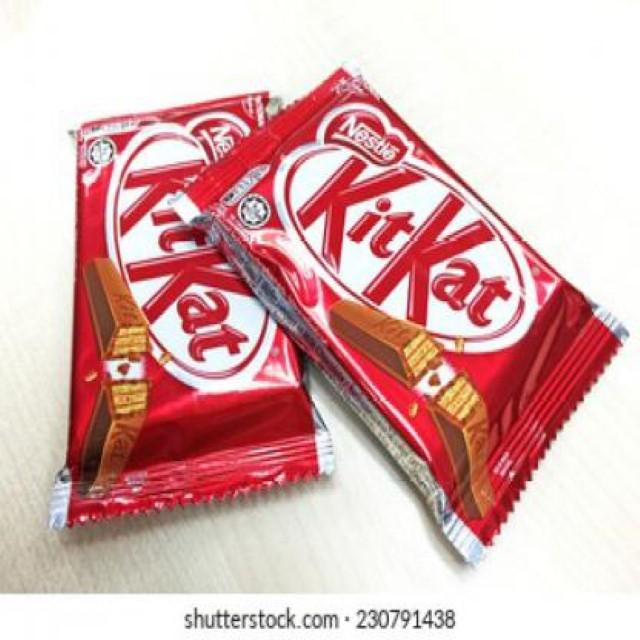kitkat_chocolate: (330, 83, 568, 485), (73, 126, 322, 476)
